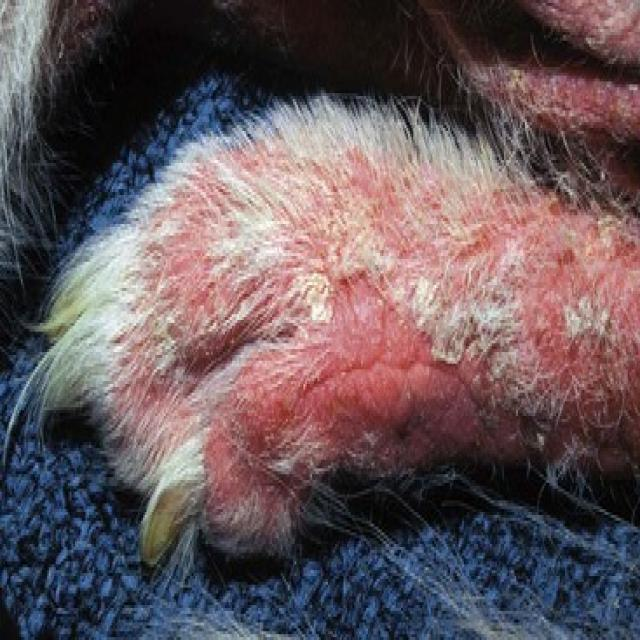fungal infection: (411, 183, 624, 389), (199, 170, 388, 314), (441, 387, 618, 469), (264, 411, 426, 479), (136, 454, 214, 564), (135, 302, 203, 383)
